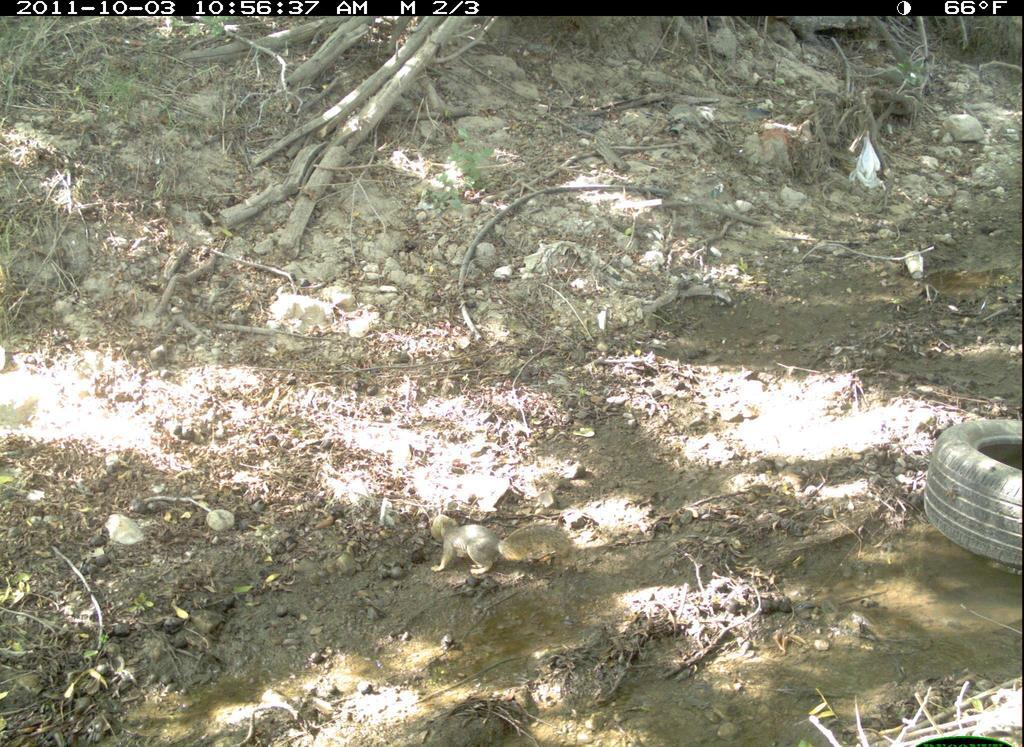squirrel: (428, 508, 583, 583)
